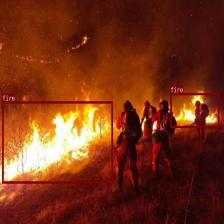fire: (1, 101, 112, 183), (170, 92, 219, 128)
